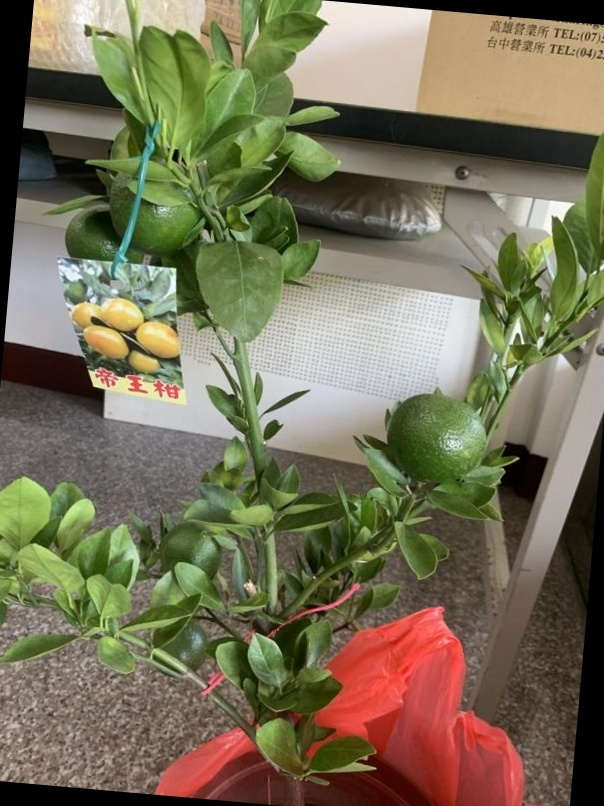Tangerine: (387, 392, 491, 488)
